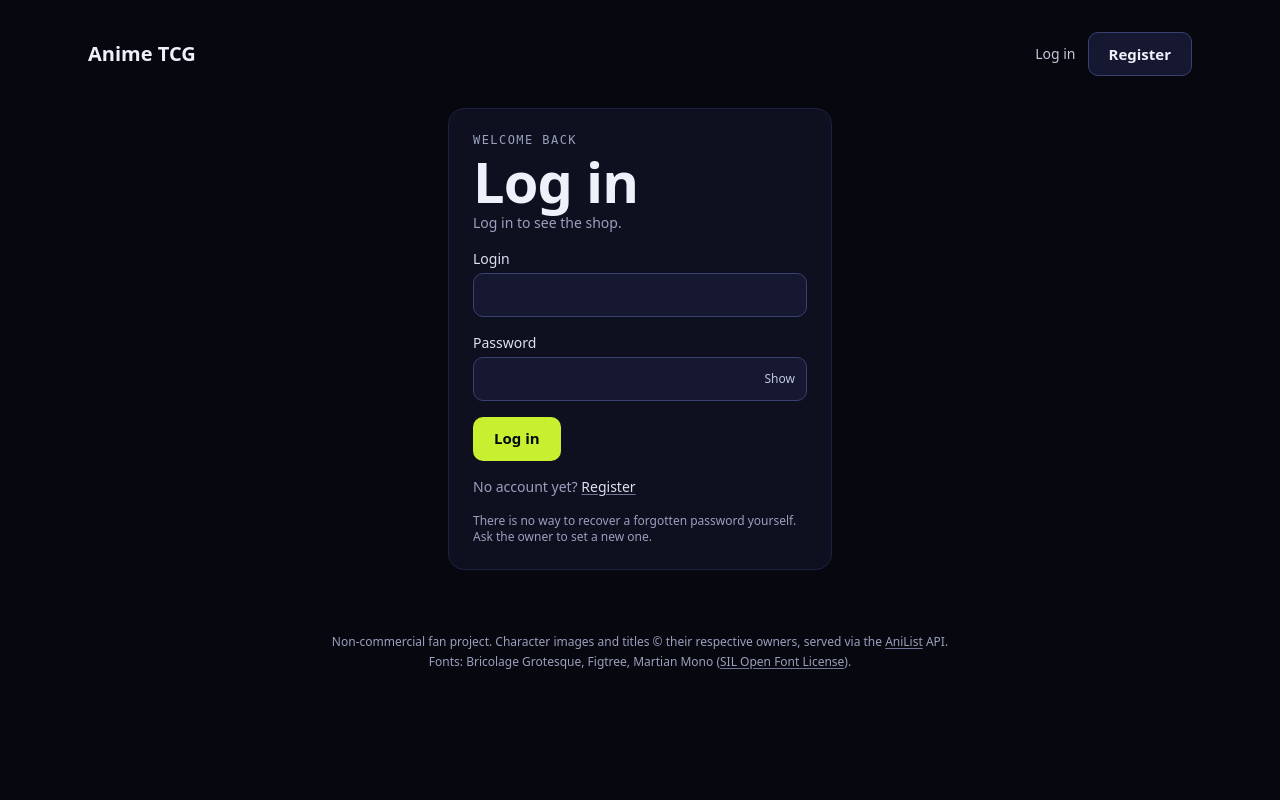
Test: the guard (§3.3) › signed out at the opening page /shop/open: replaced by /login with its section page /shop as the return path (§3.13 step 7)
The width and height of the screenshot is (1280, 800).
expect the heading "Log in" is shown: met, box 473,143 -> 638,219
expect the text "Log in to see the shop." is shown: met, box 473,213 -> 622,232
Click the field labelled "Login" at x=640, y=295, box 473,273 -> 807,317
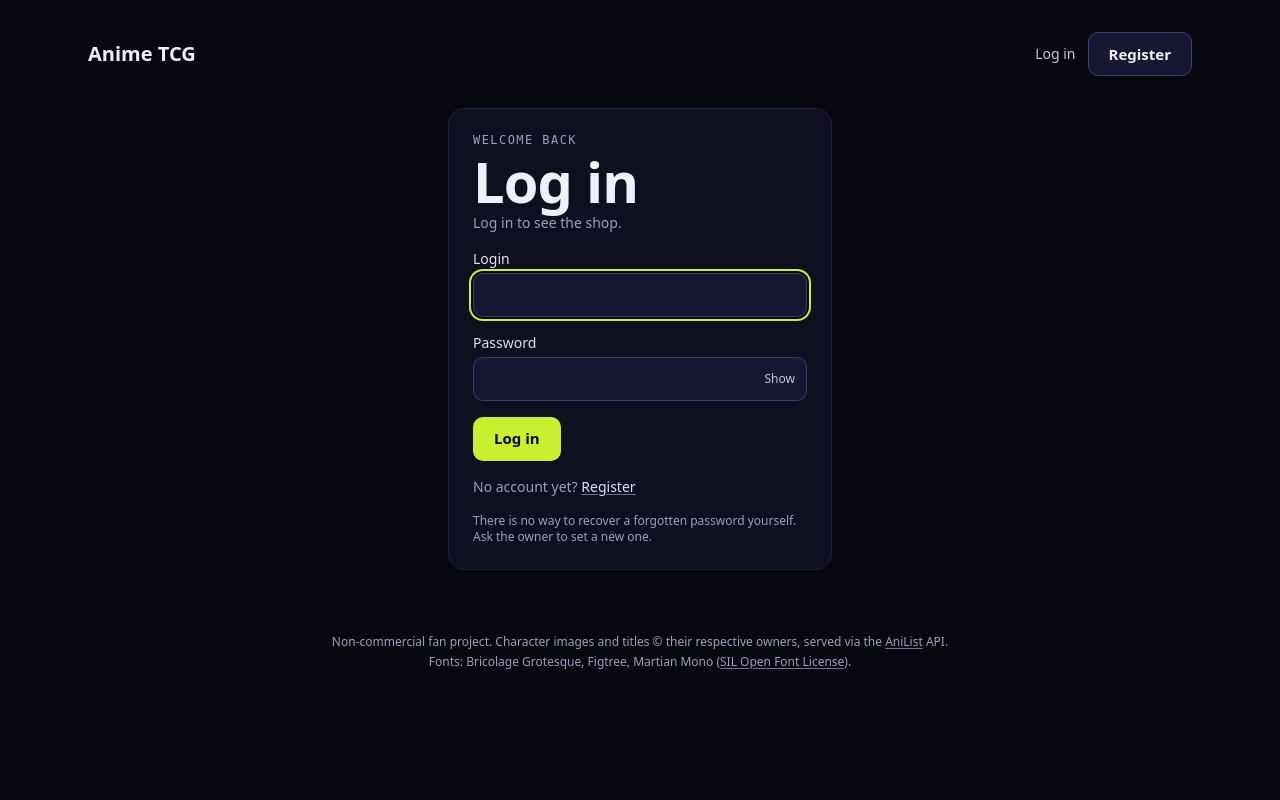
Type keys "chris"
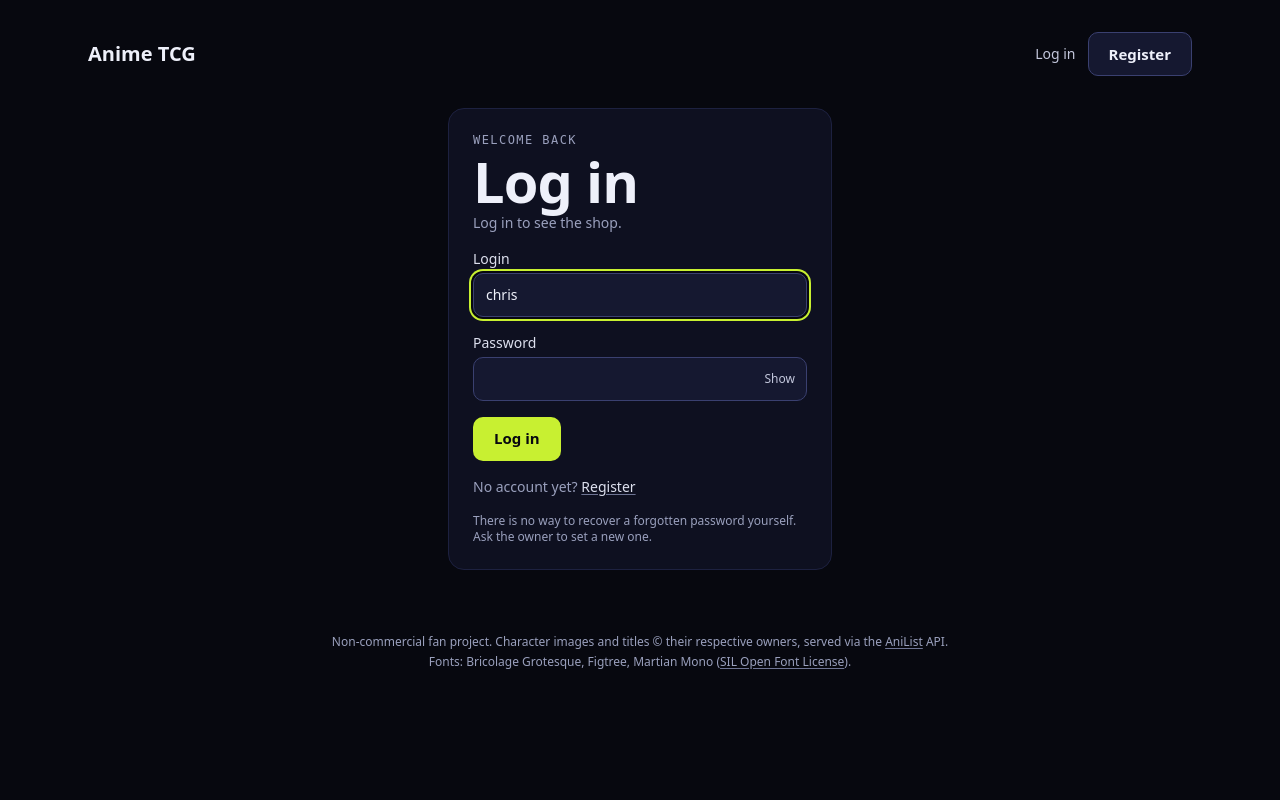
Click the password field labelled "Password" at x=640, y=379, box 473,357 -> 807,401
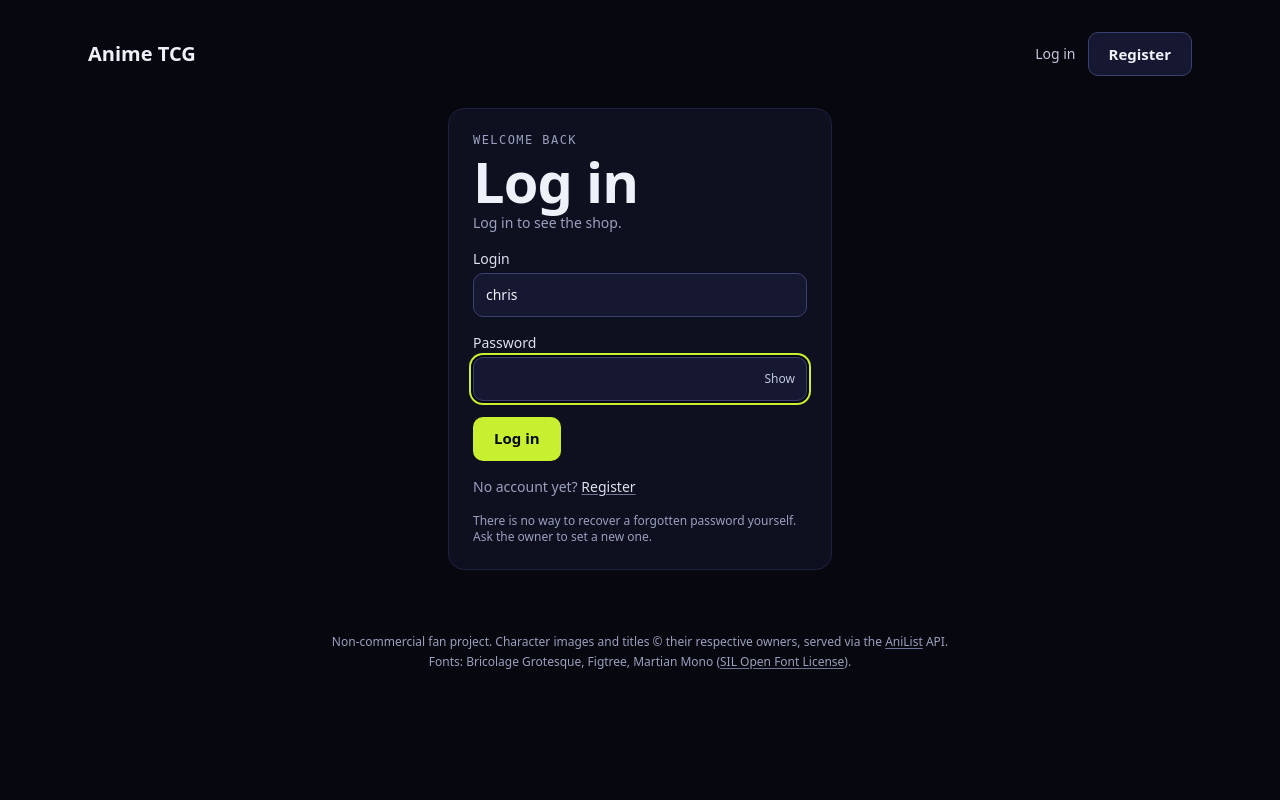
Type keys "a password"
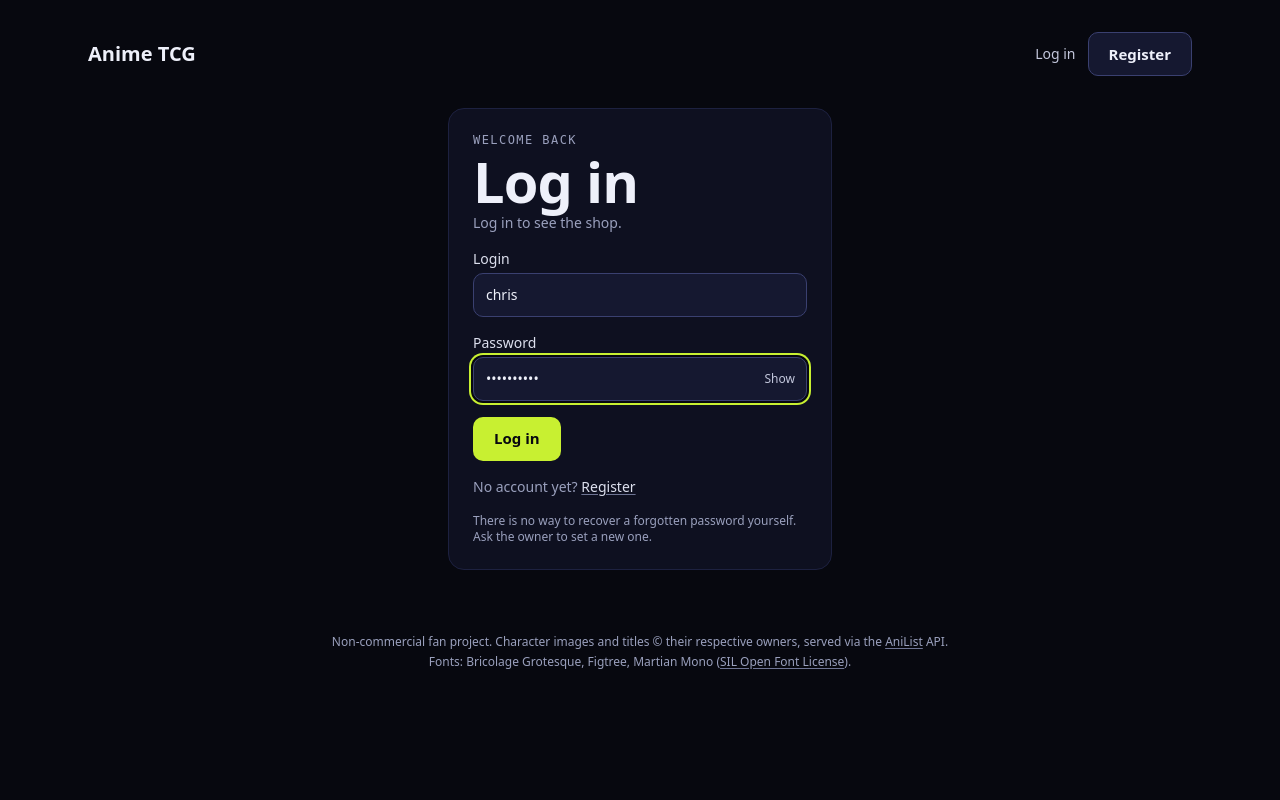
Click the button "Log in" at x=517, y=439, box 473,417 -> 561,461
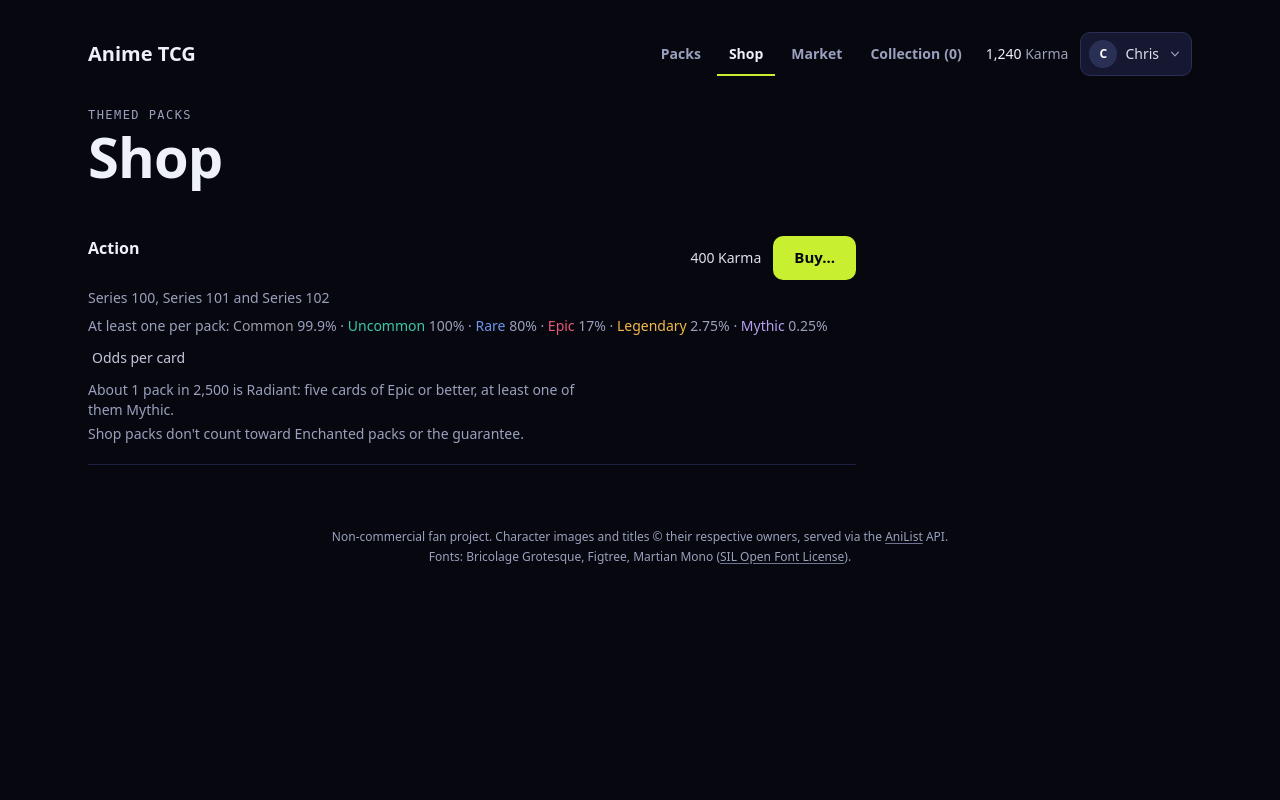
expect the heading "Shop" is shown: met, box 88,118 -> 222,194
